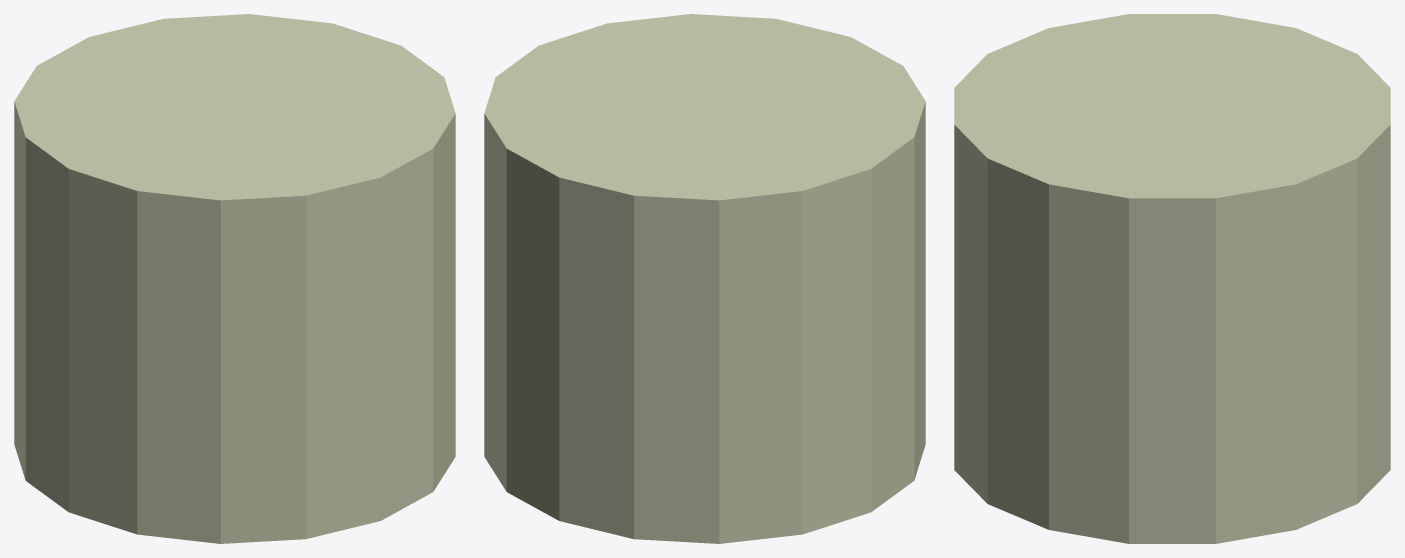
File: CLV_2_LFO_2_Collider.obj
3 renders of one model, left to right at view 1: azimuth 30°, elevation 25°; view 2: azimuth 150°, elevation 25°; view 3: azimuth 270°, elevation 25°, orthographic.
Parts seen in each view (by area): view 1: CLV_2_LFO_2_Collider; view 2: CLV_2_LFO_2_Collider; view 3: CLV_2_LFO_2_Collider.
Part boxes in pixels (box(x1,y1,x2,y2)): CLV_2_LFO_2_Collider: box(14, 14, 455, 543); CLV_2_LFO_2_Collider: box(484, 14, 925, 543); CLV_2_LFO_2_Collider: box(954, 14, 1390, 543).
Bounding box in the file's own units: 1.25 × 1.09 × 1.25.
